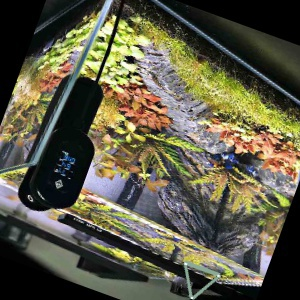triangle: (180, 259, 223, 300)
